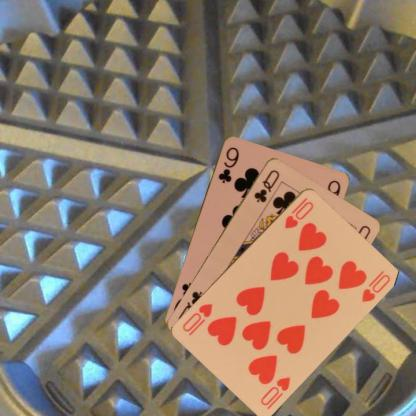10h: (281, 194, 315, 230), (258, 374, 292, 407)
9c: (215, 144, 240, 184)
Qc: (251, 166, 281, 204)
